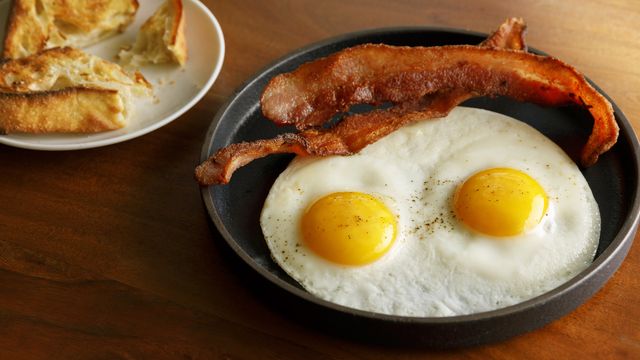Sunny Side Up: (418, 106, 599, 315), (261, 152, 432, 317)
